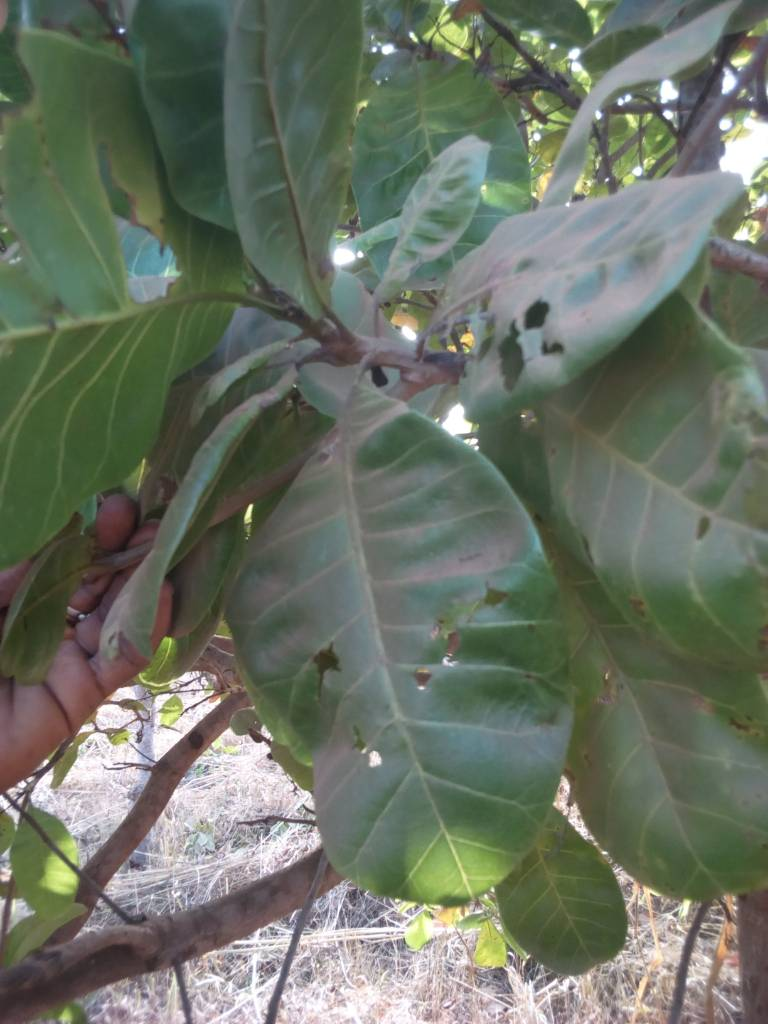Anoplonemis curvipes: (275, 422, 549, 850), (1, 33, 163, 430), (446, 185, 735, 385), (572, 405, 768, 649)
